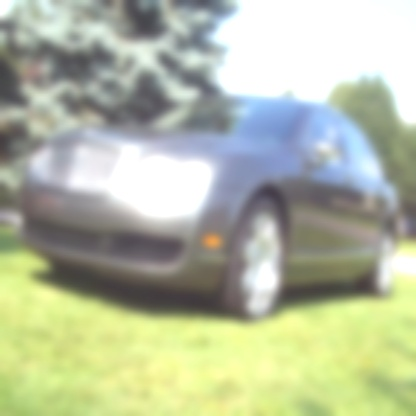Vehicle: (21, 96, 401, 325)
